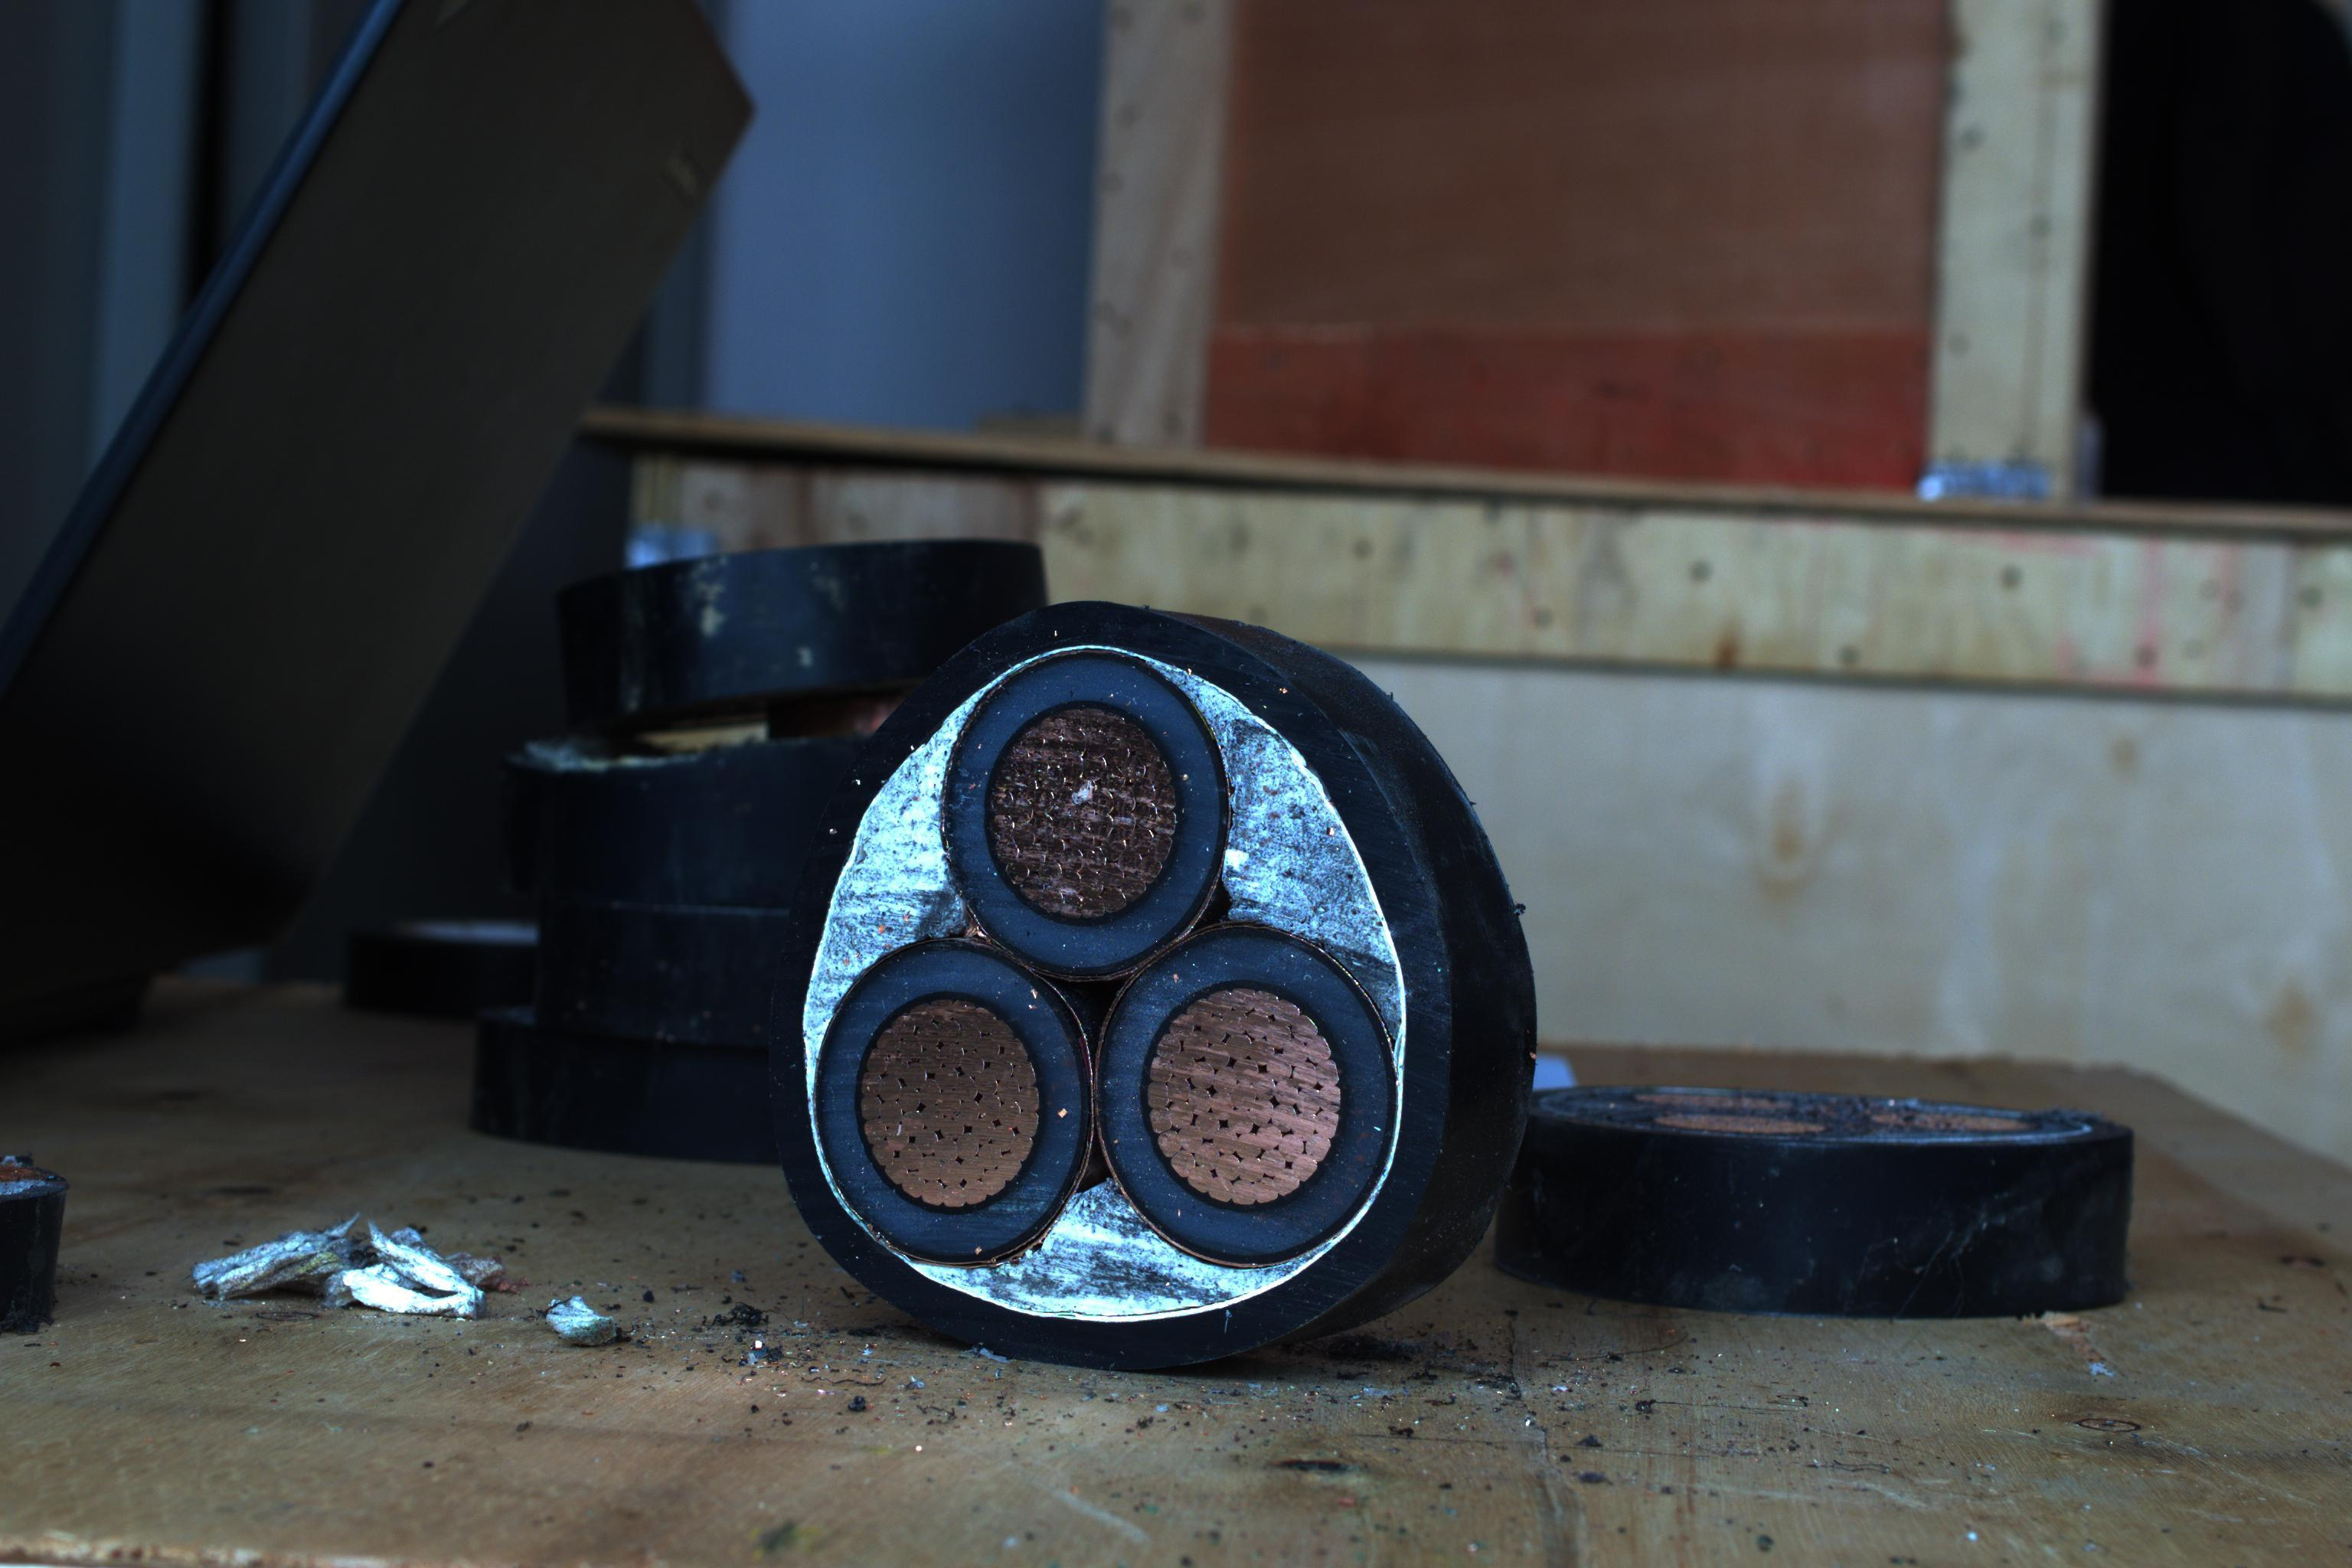ZA_YJV_8.7_10kV_3x400: (803, 611, 1400, 1365)
